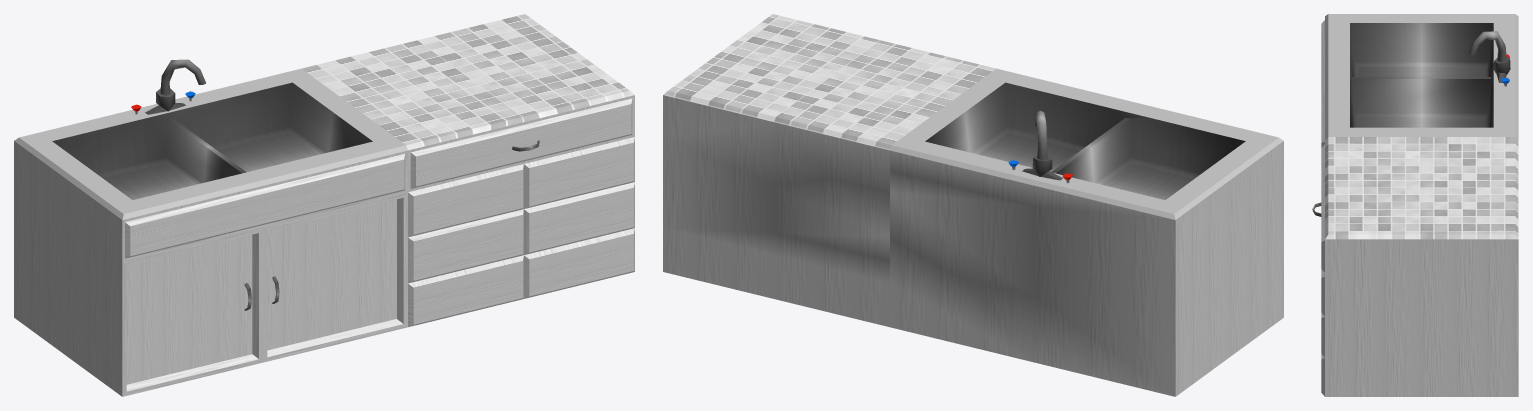
File: Kitchen_Sink_B2.FBX
3 renders of one model, left to right at view 1: azimuth 30°, elevation 25°; view 2: azimuth 150°, elevation 25°; view 3: azimuth 270°, elevation 25°, orthographic. The views are drawn at different scales.
Parts seen in each view (by area): view 1: Kitchen_Sink; view 2: Kitchen_Sink; view 3: Kitchen_Sink.
Part boxes in pixels (x1,y1,x2,y2): Kitchen_Sink: [14, 14, 634, 396]; Kitchen_Sink: [663, 14, 1283, 396]; Kitchen_Sink: [1312, 14, 1518, 396].
Bounding box in the file's own units: 409 × 179 × 160.
